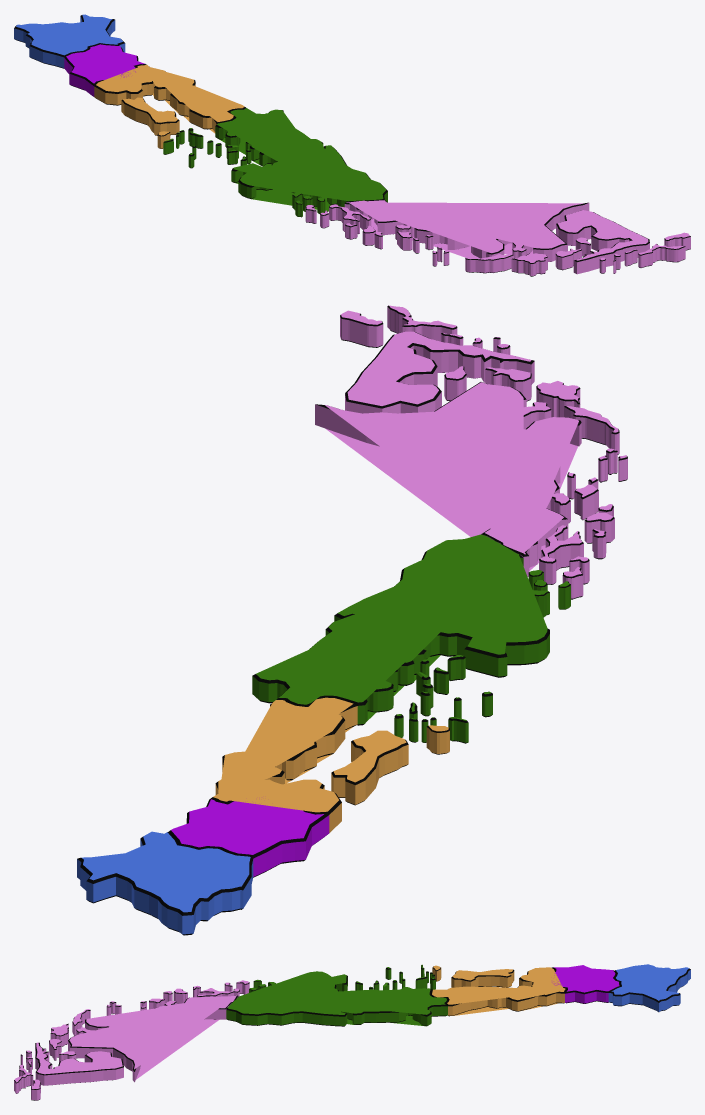
File: zona sur.fbx
3 renders of one model, top to bottom at view 1: azimuth 30°, elevation 25°; view 2: azimuth 150°, elevation 25°; view 3: azimuth 270°, elevation 25°, orthographic. The views are drawn at different scales.
Visible parts, largest first — view 1: XII Magallanes Antartica Chilena, XI Aysen, X Los Lagos, IX Araucania, XIV Los Rios; view 2: XII Magallanes Antartica Chilena, XI Aysen, X Los Lagos, IX Araucania, XIV Los Rios; view 3: XII Magallanes Antartica Chilena, XI Aysen, X Los Lagos, IX Araucania, XIV Los Rios.
Part boxes in pixels (left/top/right/bottom): XII Magallanes Antartica Chilena: left=305, top=200, right=690, bottom=276; XI Aysen: left=163, top=108, right=387, bottom=217; X Los Lagos: left=94, top=65, right=245, bottom=148; IX Araucania: left=14, top=14, right=125, bottom=68; XIV Los Rios: left=64, top=44, right=146, bottom=96; XII Magallanes Antartica Chilena: left=315, top=305, right=627, bottom=599; XI Aysen: left=252, top=534, right=570, bottom=743; X Los Lagos: left=210, top=697, right=449, bottom=832; IX Araucania: left=77, top=831, right=253, bottom=935; XIV Los Rios: left=168, top=799, right=329, bottom=877; XII Magallanes Antartica Chilena: left=14, top=980, right=249, bottom=1100; XI Aysen: left=226, top=964, right=448, bottom=1026; X Los Lagos: left=431, top=965, right=566, bottom=1016; IX Araucania: left=608, top=964, right=690, bottom=1012; XIV Los Rios: left=551, top=965, right=620, bottom=1003.
Bounding box in the file's own units: 95.96 × 4.13 × 218.
